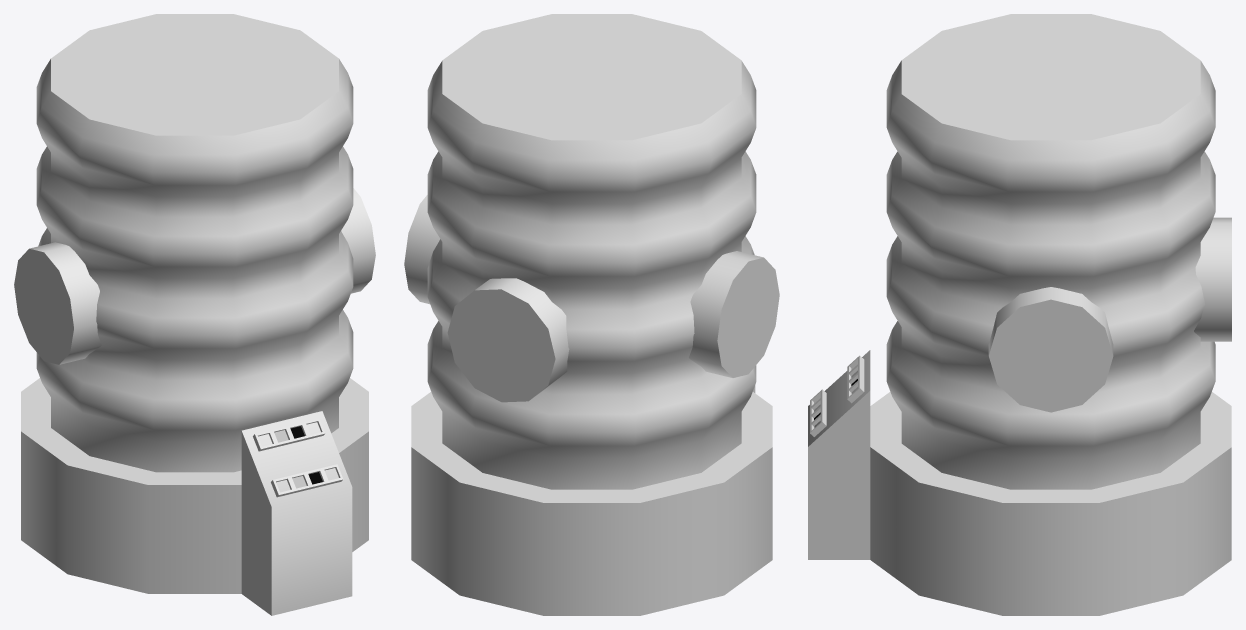
The model's file is EnergyCore.fbx.
3 views of the same model, side by side, from view 1: azimuth 30°, elevation 25°; view 2: azimuth 150°, elevation 25°; view 3: azimuth 270°, elevation 25° (orthographic). The views are drawn at different scales.
Visible parts, largest first — view 1: Energy Core, ExpectedPanel, ReceivedPanel; view 2: Energy Core; view 3: Energy Core, ExpectedPanel, ReceivedPanel.
Boxes of the visible parts, left/top/right/bottom form: Energy Core: left=14, top=14, right=375, bottom=615; ExpectedPanel: left=253, top=418, right=325, bottom=451; ReceivedPanel: left=271, top=464, right=343, bottom=497; Energy Core: left=404, top=14, right=779, bottom=615; Energy Core: left=808, top=14, right=1231, bottom=615; ExpectedPanel: left=847, top=355, right=864, bottom=403; ReceivedPanel: left=810, top=389, right=826, bottom=436.
Bounding box in the file's own units: 580 × 818 × 680.
